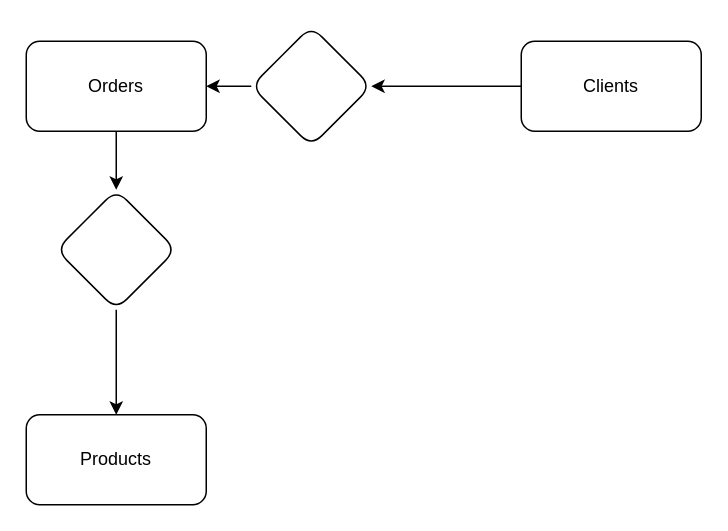
Some shapes in this 728 by 531 pixel diagram are drawn without their labels. The shapes that lost their labels are listed below. From the top down, each one's centre as x and y in pixels, then its label:
At point 310,85: "Create".
At point 115,249: "Contain".
